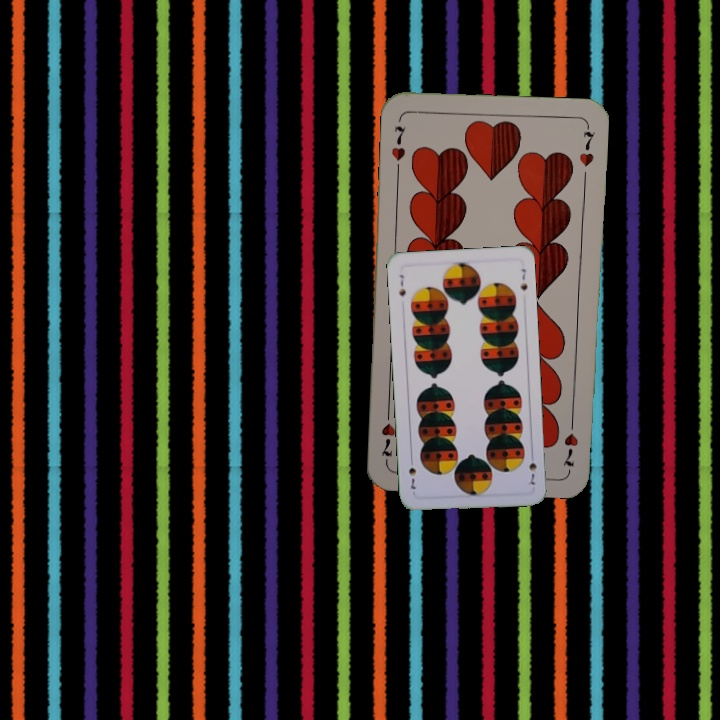H7: (560, 413, 581, 472), (387, 122, 408, 175)
S7: (524, 449, 539, 487), (395, 271, 408, 299)
